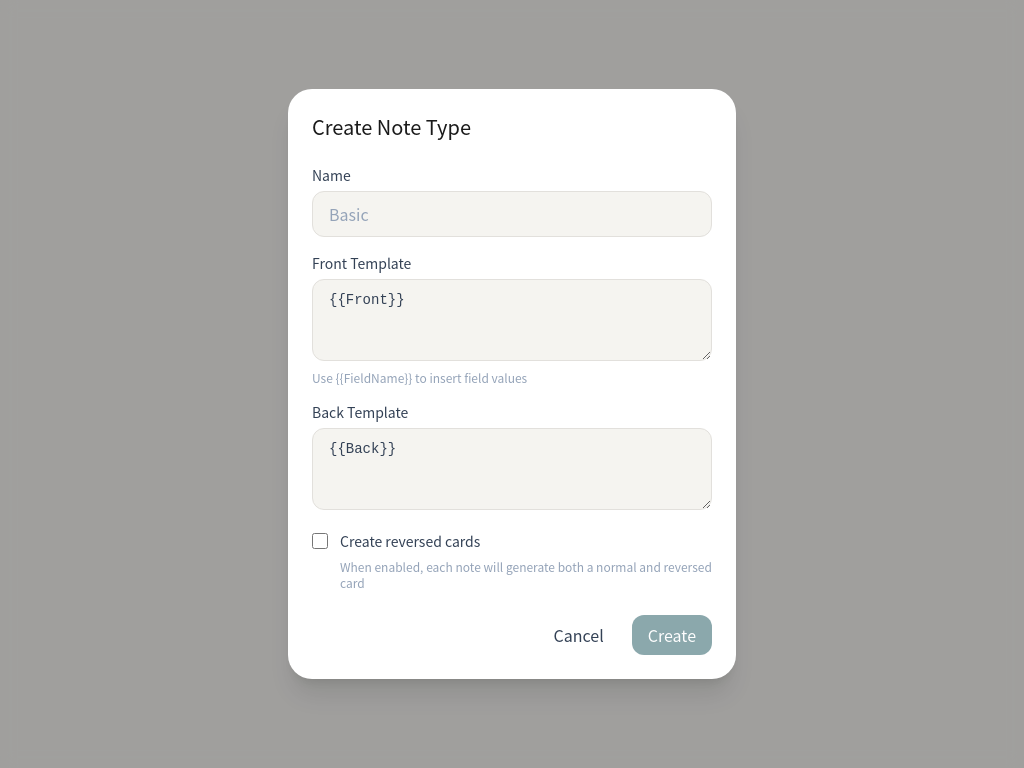
it: CreateNoteTypeModal › displays a generic error when the local write fails
The image size is (1024, 768).
Type "Test Note Type" into the field labelled "Name" at (512, 214), box [312, 191, 712, 237]
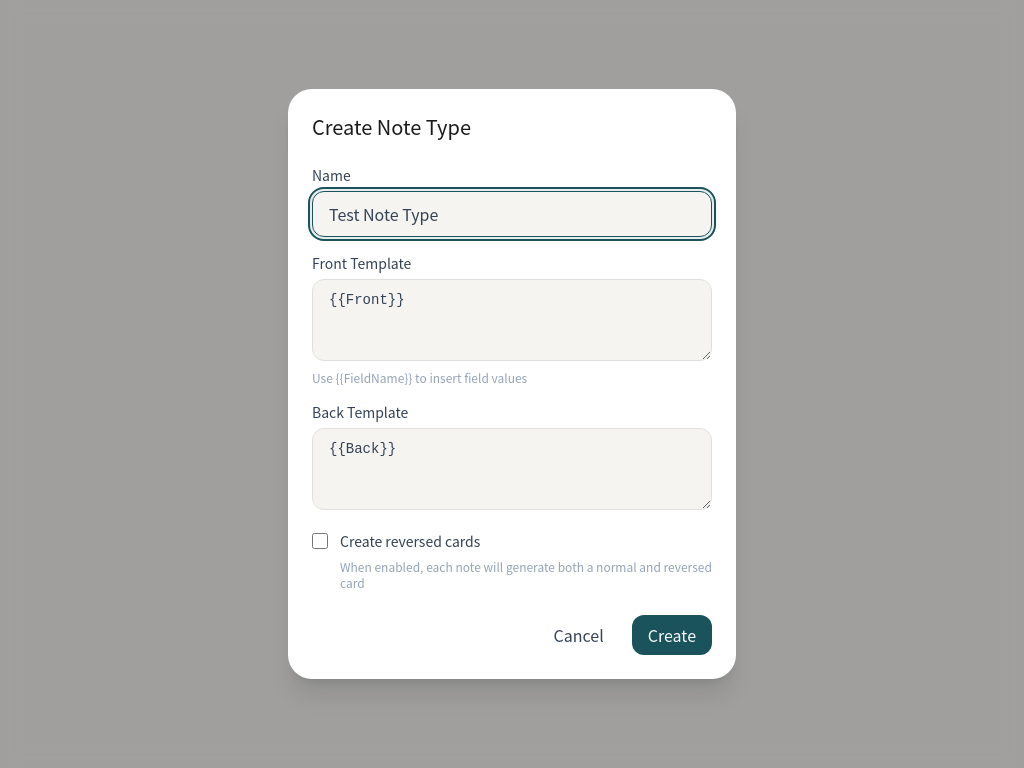
Click the button "Create" at (672, 635), box [632, 615, 712, 655]
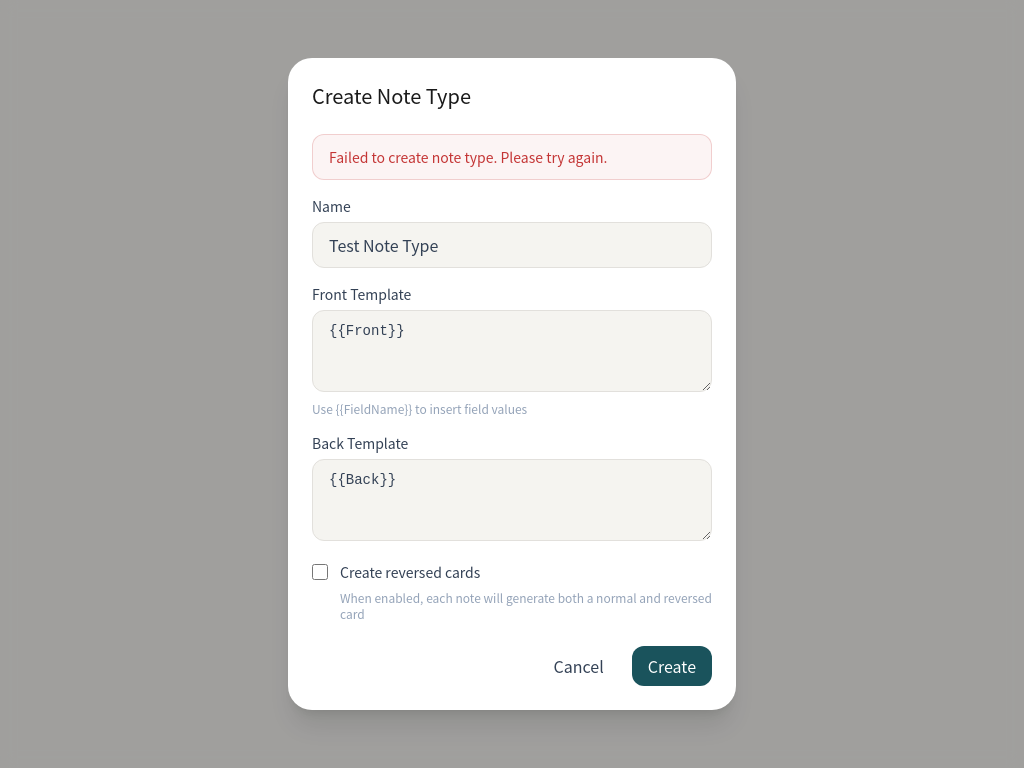
Now the message reads "Failed to create note type. Please try again.", box [329, 147, 607, 167]
